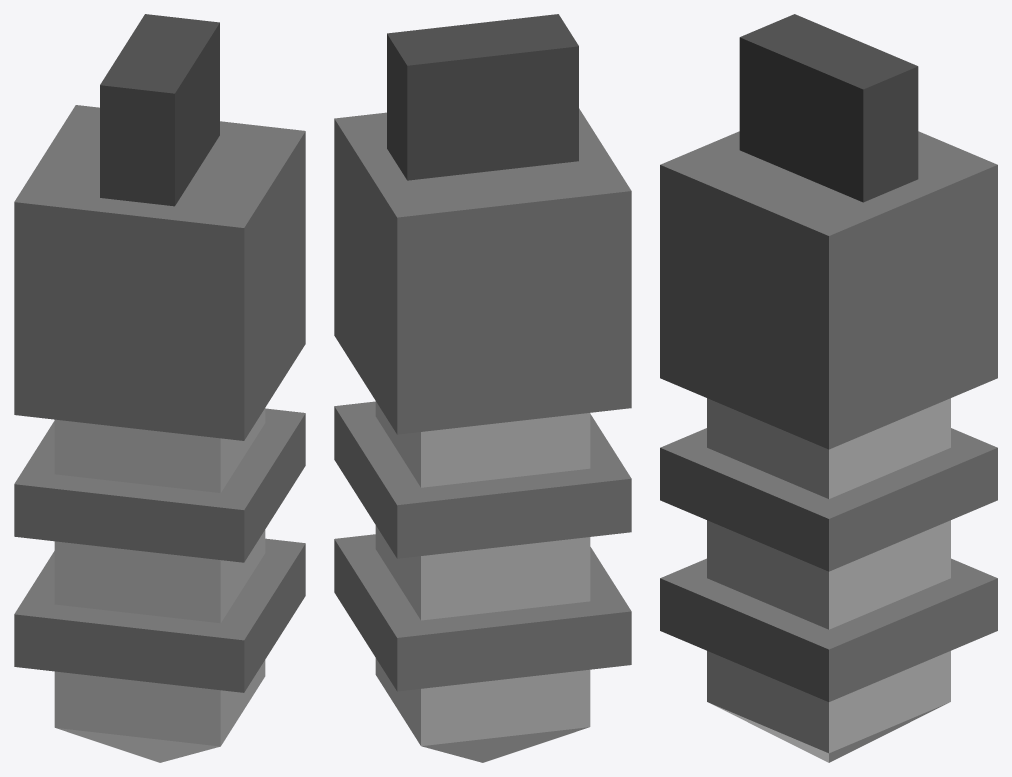
File: light_A.FBX
The picture shows the model from 3 angles, left to right: view 1: azimuth 30°, elevation 25°; view 2: azimuth 150°, elevation 25°; view 3: azimuth 270°, elevation 25°; orthographic projection.
Visible parts, largest first — view 1: light_A, light_A_glow; view 2: light_A, light_A_glow; view 3: light_A, light_A_glow.
Boxes of the visible parts, x1,y1,x2,y2 form: light_A: [14, 14, 305, 692]; light_A_glow: [54, 408, 265, 762]; light_A: [334, 14, 631, 691]; light_A_glow: [375, 401, 590, 762]; light_A: [660, 14, 997, 701]; light_A_glow: [707, 398, 950, 762].
Size of the model in its own units: 15.41 by 35.82 by 15.41.
